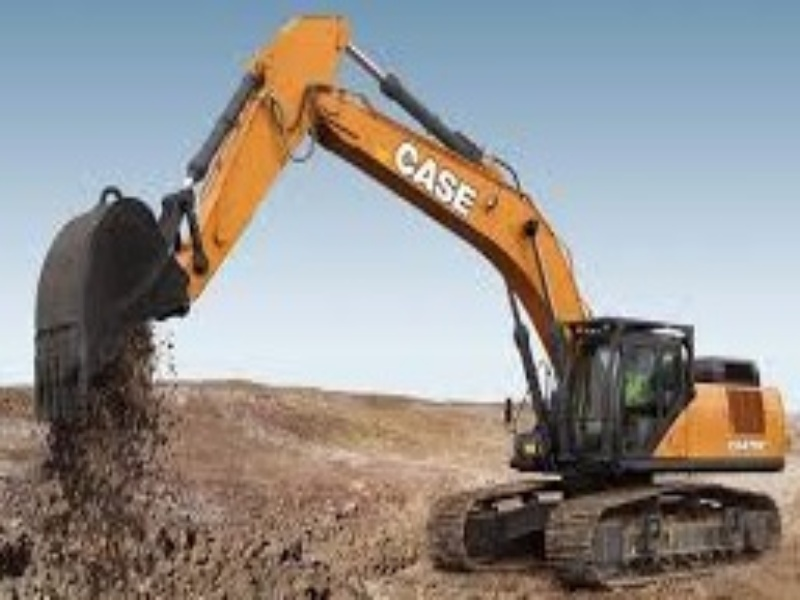wajueji: (381, 128, 790, 600)
